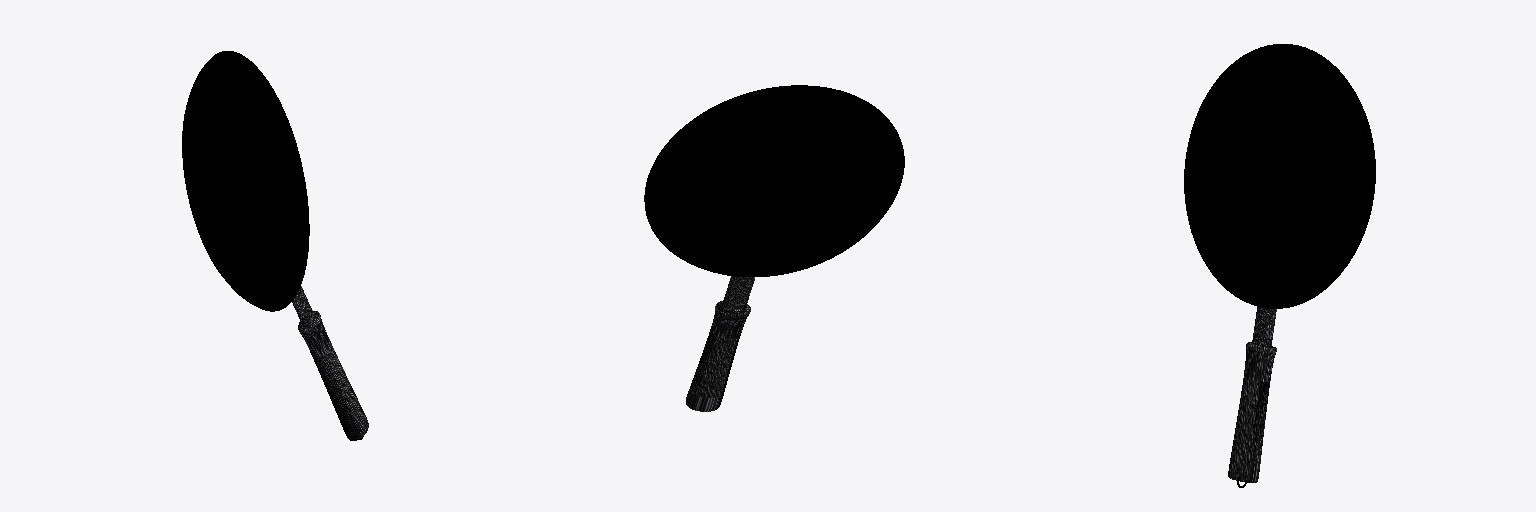
3 renders of one model, left to right at view 1: azimuth 30°, elevation 25°; view 2: azimuth 150°, elevation 25°; view 3: azimuth 270°, elevation 25°, orthographic.
Visible parts, largest first — view 1: Sarten:Mesh; view 2: Sarten:Mesh; view 3: Sarten:Mesh.
Part boxes in pixels (x1,y1,x2,y2): Sarten:Mesh: (182,51,368,440); Sarten:Mesh: (644,85,904,411); Sarten:Mesh: (1184,44,1375,487).
Size of the model in its own units: 4.95 by 9.34 by 4.28.
1 materials, 1 textured.